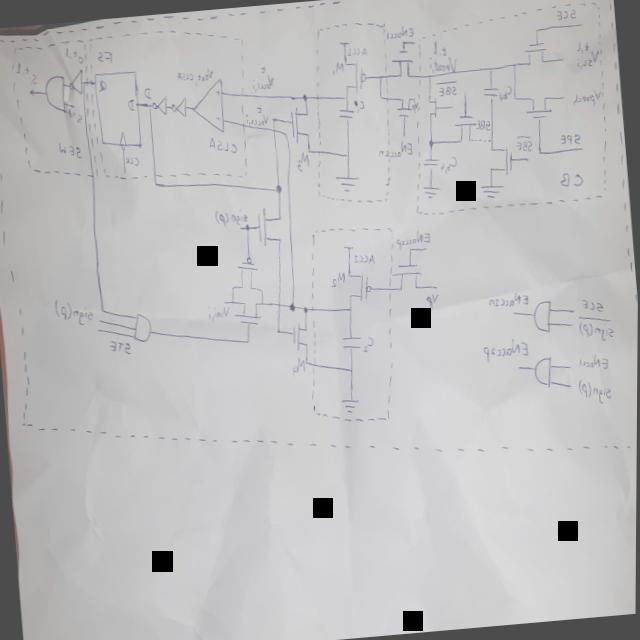capacitor: (338, 331, 363, 352), (421, 152, 440, 170), (337, 105, 354, 120), (481, 83, 498, 97)
crossover: (276, 300, 281, 306), (271, 127, 275, 131)
ground: (333, 170, 360, 193), (479, 181, 506, 202), (340, 394, 361, 414), (420, 182, 441, 200)
junction: (288, 300, 295, 311), (300, 90, 307, 100), (275, 182, 282, 192), (427, 137, 434, 146), (243, 222, 250, 230), (536, 146, 542, 155), (302, 304, 308, 312), (275, 326, 280, 334), (344, 150, 349, 158), (306, 146, 311, 154), (533, 26, 539, 32), (152, 180, 157, 187), (377, 92, 382, 99), (511, 60, 516, 67), (282, 129, 287, 136), (487, 64, 492, 70), (348, 366, 353, 372), (229, 283, 234, 289), (377, 72, 382, 78), (347, 305, 352, 311), (258, 286, 263, 292), (230, 299, 235, 305), (147, 102, 151, 109), (245, 338, 250, 343), (427, 72, 431, 78), (525, 154, 528, 160), (82, 78, 85, 84), (98, 316, 101, 322), (401, 38, 404, 42), (98, 326, 100, 331), (513, 94, 515, 98), (271, 116, 273, 120), (260, 300, 262, 304), (101, 306, 103, 310), (409, 247, 411, 250), (344, 95, 346, 98)
source: (338, 38, 349, 46), (343, 243, 353, 250)
terminal: (567, 319, 574, 327), (460, 87, 467, 94), (28, 87, 34, 95), (577, 20, 582, 26), (559, 94, 564, 100), (433, 283, 438, 289), (516, 363, 521, 369), (567, 382, 572, 388), (411, 39, 415, 45), (568, 362, 572, 367), (449, 100, 452, 106), (423, 244, 426, 250), (570, 307, 574, 311), (402, 131, 405, 135), (122, 169, 125, 173), (561, 55, 563, 59), (580, 145, 582, 149), (412, 95, 414, 99), (72, 104, 74, 108), (239, 224, 241, 228), (513, 309, 515, 313), (223, 299, 225, 301)
text: (52, 292, 95, 328), (479, 334, 530, 364), (426, 36, 460, 76), (575, 310, 615, 343), (576, 374, 612, 404), (571, 38, 600, 72), (485, 288, 529, 310), (212, 204, 248, 230), (174, 65, 214, 88), (394, 226, 431, 250), (247, 61, 275, 92), (376, 138, 414, 160), (569, 86, 603, 110), (203, 298, 231, 324), (13, 58, 38, 86), (207, 133, 238, 155), (243, 102, 269, 128), (577, 350, 608, 370), (381, 22, 414, 40), (56, 138, 82, 160), (557, 168, 584, 189), (513, 130, 534, 154), (107, 338, 132, 358), (62, 44, 83, 67), (434, 76, 458, 96), (437, 152, 458, 173), (580, 296, 604, 314), (290, 354, 308, 376), (328, 268, 346, 289), (558, 130, 581, 146), (294, 149, 310, 172), (345, 42, 367, 58), (423, 290, 439, 311), (352, 250, 375, 264), (552, 6, 575, 20), (496, 82, 512, 102), (65, 105, 81, 125), (95, 48, 112, 65), (474, 116, 491, 132), (361, 334, 374, 352), (331, 59, 344, 76), (352, 96, 364, 114), (124, 152, 139, 166), (95, 75, 106, 94), (126, 94, 135, 110), (143, 85, 150, 98), (411, 98, 418, 110), (213, 86, 220, 96), (215, 112, 220, 120)
transistor: (252, 202, 284, 248), (389, 258, 422, 292), (231, 294, 262, 328), (342, 56, 369, 94), (287, 104, 312, 144), (235, 255, 261, 292), (521, 37, 550, 70), (486, 143, 515, 175), (452, 110, 478, 144), (389, 46, 414, 80), (523, 90, 551, 120), (346, 271, 372, 301), (289, 318, 309, 351), (394, 91, 413, 120), (425, 93, 439, 121)
